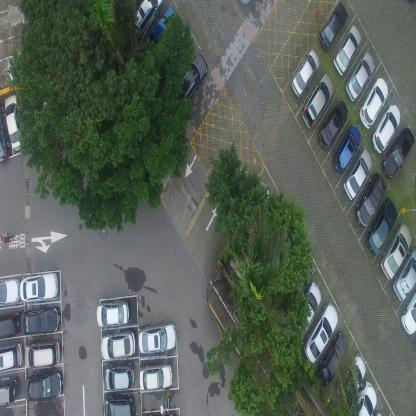car: (303, 300, 337, 362), (144, 4, 180, 61), (300, 74, 334, 132), (174, 51, 207, 110), (364, 198, 397, 255), (353, 172, 386, 228), (380, 222, 411, 278), (382, 126, 415, 178), (315, 332, 346, 386), (315, 101, 347, 153), (294, 280, 323, 337), (332, 22, 362, 76), (344, 52, 375, 104), (358, 76, 387, 131), (342, 148, 372, 200), (338, 352, 368, 404), (290, 46, 320, 98), (371, 104, 400, 157), (318, 0, 348, 51), (284, 252, 313, 300), (332, 126, 361, 174), (131, 0, 162, 43), (21, 270, 59, 304), (4, 93, 25, 154), (392, 250, 416, 302), (139, 322, 176, 355), (24, 370, 62, 402), (21, 306, 61, 336), (102, 331, 136, 365), (25, 340, 61, 371), (97, 301, 129, 331), (139, 363, 172, 392), (350, 380, 377, 415), (106, 362, 134, 394), (399, 290, 415, 336), (0, 98, 11, 163), (0, 341, 23, 372), (332, 49, 355, 79), (0, 310, 21, 342), (0, 274, 21, 306), (104, 394, 135, 415), (0, 374, 19, 406)
